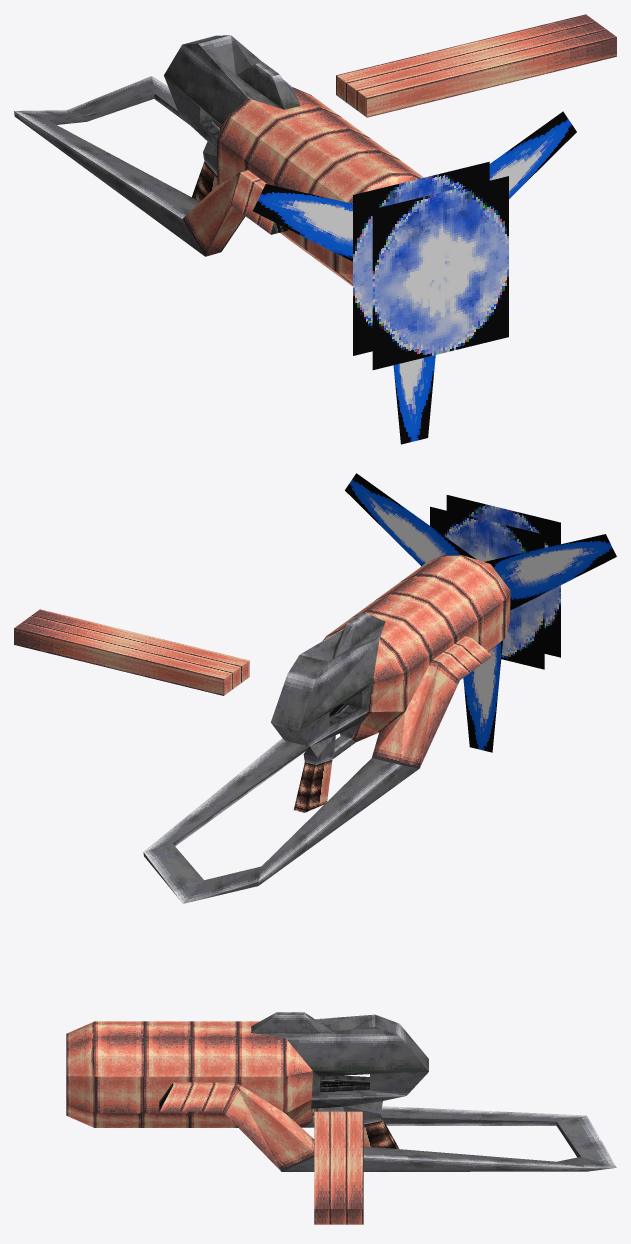
The model's file is Gun000B.obj.
3 views of the same model, one above another, from view 1: azimuth 30°, elevation 25°; view 2: azimuth 150°, elevation 25°; view 3: azimuth 270°, elevation 25° (orthographic). The views are drawn at different scales.
Visible parts, largest first — view 1: Room01_primary, Room03_primary, Room06_primary, Room04; view 2: Room01_primary, Room04, Room06_primary, Room03_primary; view 3: Room01_primary, Room06_primary.
Part boxes in pixels (x1,y1,x2,y2): Room01_primary: [14, 35, 423, 285]; Room03_primary: [353, 161, 508, 369]; Room06_primary: [336, 14, 616, 117]; Room04: [253, 111, 576, 444]; Room01_primary: [143, 555, 510, 903]; Room04: [345, 473, 616, 752]; Room06_primary: [14, 609, 249, 695]; Room03_primary: [430, 495, 560, 669]; Room01_primary: [66, 1012, 616, 1171]; Room06_primary: [314, 1111, 363, 1224].
Bounding box in the file's own units: 755 × 403 × 940.
40 materials, 40 textured.
